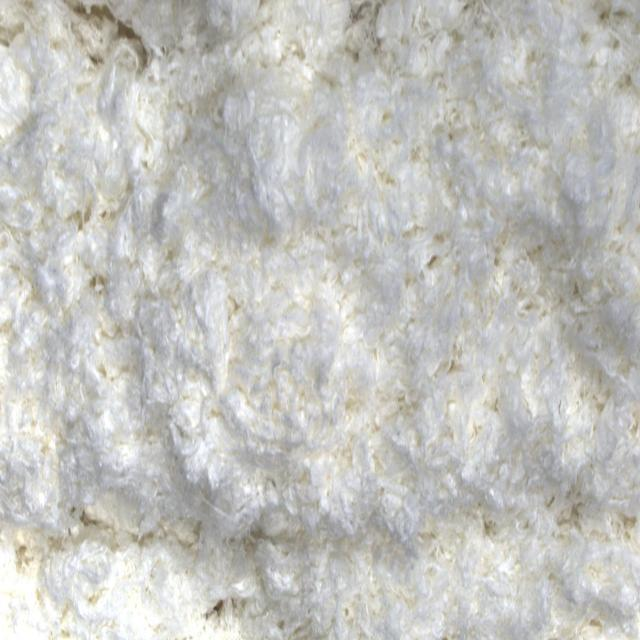dust: (74, 2, 161, 63)
